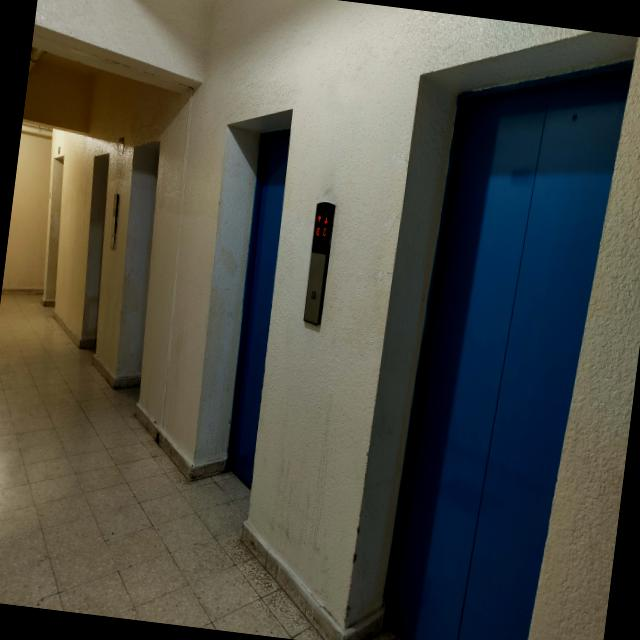elevator: (337, 10, 640, 640), (162, 72, 356, 537)
